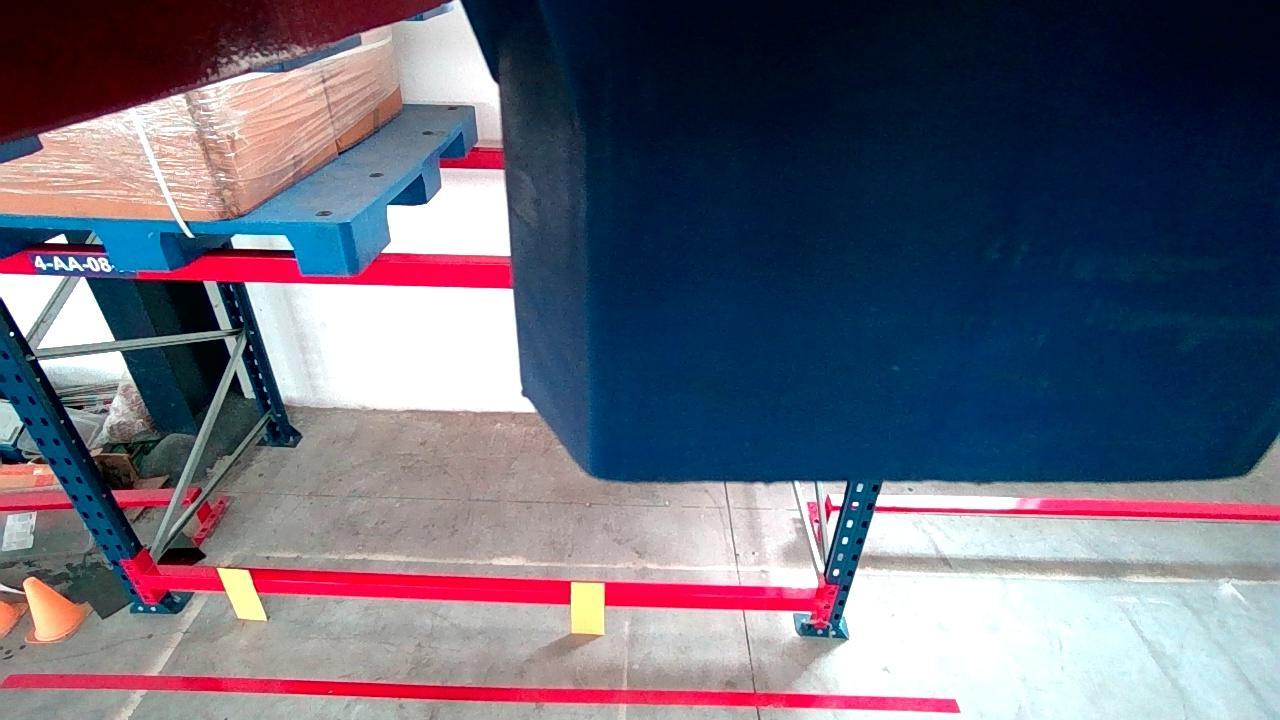h_rack: (140, 574, 817, 610), (0, 247, 510, 289)
orange_strip: (217, 570, 269, 622), (570, 583, 604, 633)
red_line: (2, 675, 958, 712)
small_pallet: (1, 219, 352, 272)
